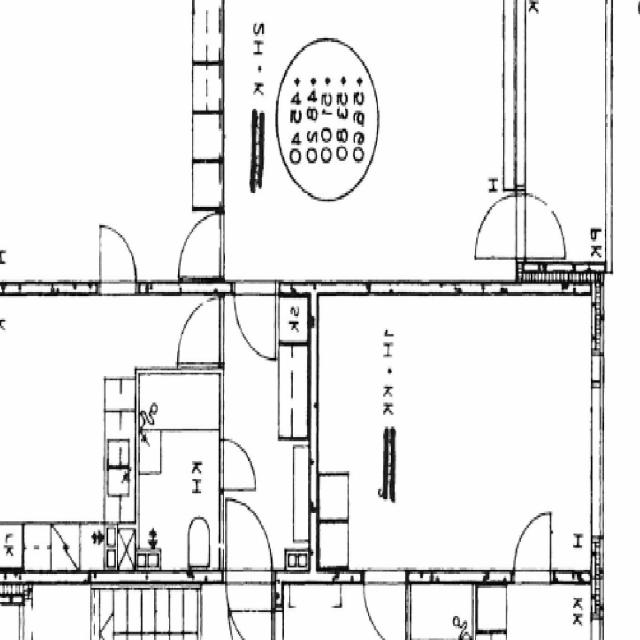door: (226, 499, 271, 584), (474, 191, 524, 258), (517, 191, 567, 258), (235, 281, 276, 358), (178, 298, 224, 363), (178, 213, 224, 278), (100, 226, 134, 294), (220, 439, 256, 490)
